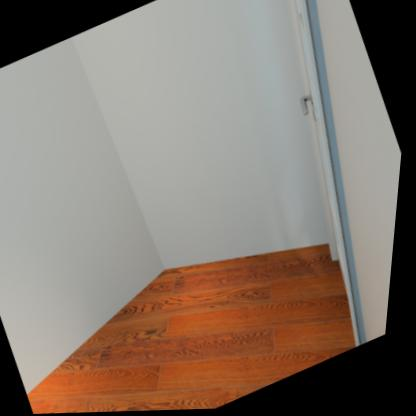Wooden floor: (35, 246, 364, 414)
